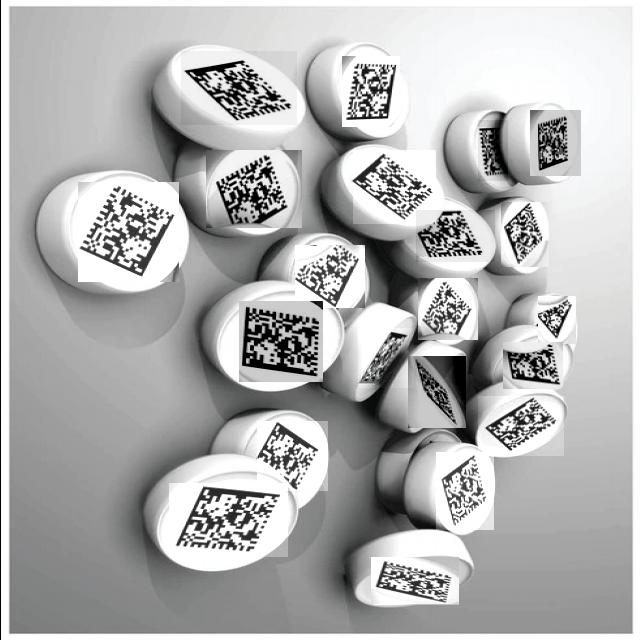DataMatrix: (77, 182, 178, 282), (168, 483, 287, 558), (180, 51, 296, 125), (205, 150, 301, 228), (238, 301, 322, 382), (352, 150, 435, 224), (477, 396, 563, 456), (256, 422, 327, 492), (435, 452, 493, 530), (294, 245, 364, 308), (370, 558, 458, 606), (407, 356, 465, 428), (341, 56, 399, 127), (415, 210, 494, 262), (417, 278, 477, 340), (529, 110, 580, 176), (357, 328, 413, 388), (500, 202, 548, 267), (502, 342, 562, 389), (477, 120, 507, 181), (537, 296, 575, 344)
